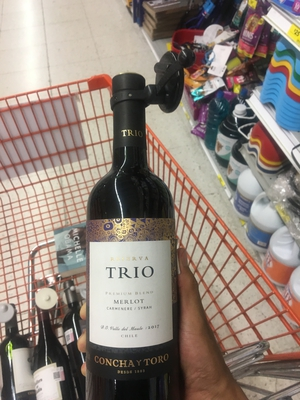trio merlot: (82, 71, 189, 400)
